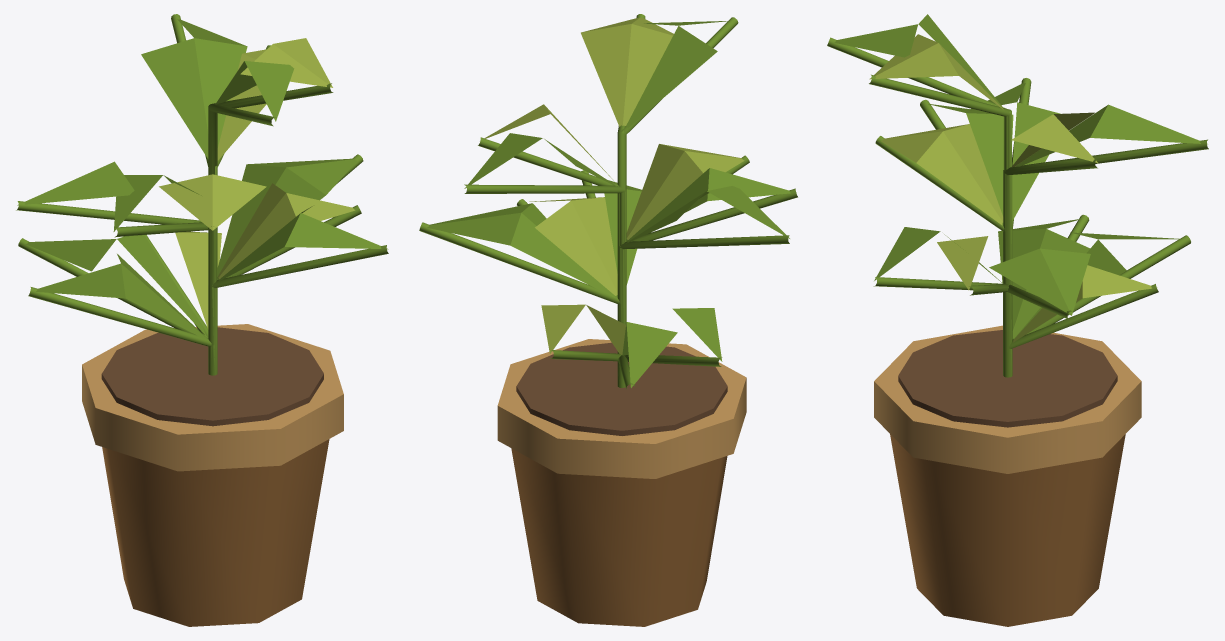
File: plant.glb
3 renders of one model, left to right at view 1: azimuth 30°, elevation 25°; view 2: azimuth 150°, elevation 25°; view 3: azimuth 270°, elevation 25°, orthographic. The views are drawn at different scales.
Visible parts, largest first — view 1: plant_Palette; view 2: plant_Palette; view 3: plant_Palette.
Part boxes in pixels (<box>): plant_Palette: <box>16,14,388,626</box>; plant_Palette: <box>419,14,797,626</box>; plant_Palette: <box>827,14,1208,626</box>.
Size of the model in its own units: 0.7863 by 1.15 by 0.7175.
